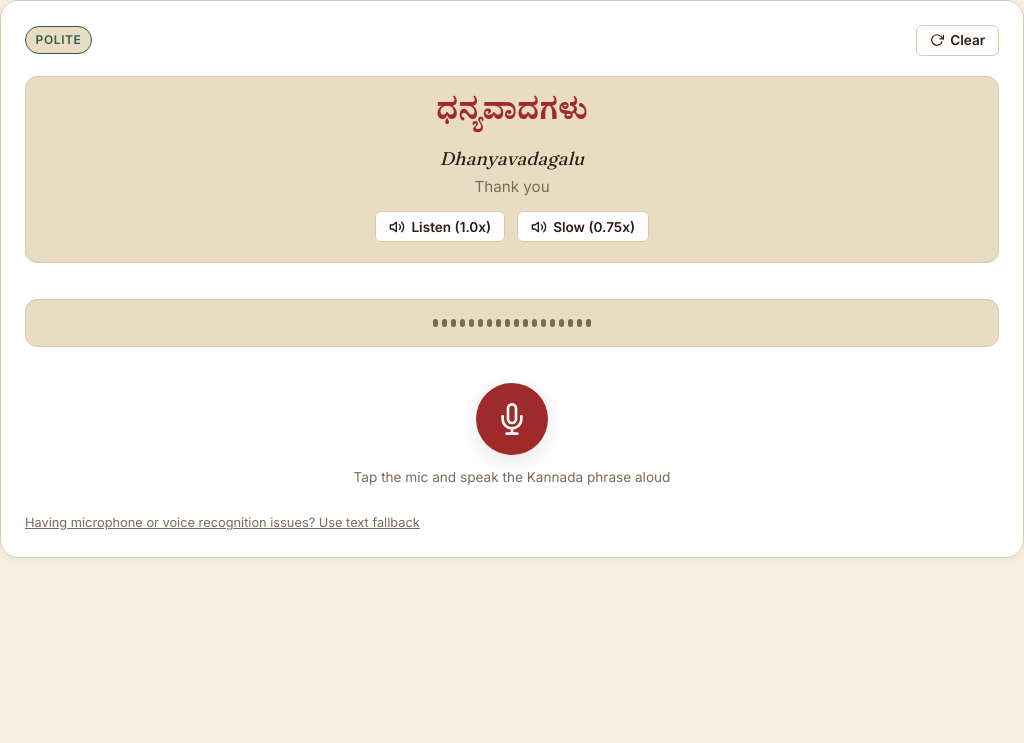
Test: SpeakPractice Component › allows text fallback input evaluation
// Click toggle fallback
Click the button "Having microphone or voice recognition issues" at (222, 523), box [25, 515, 420, 530]
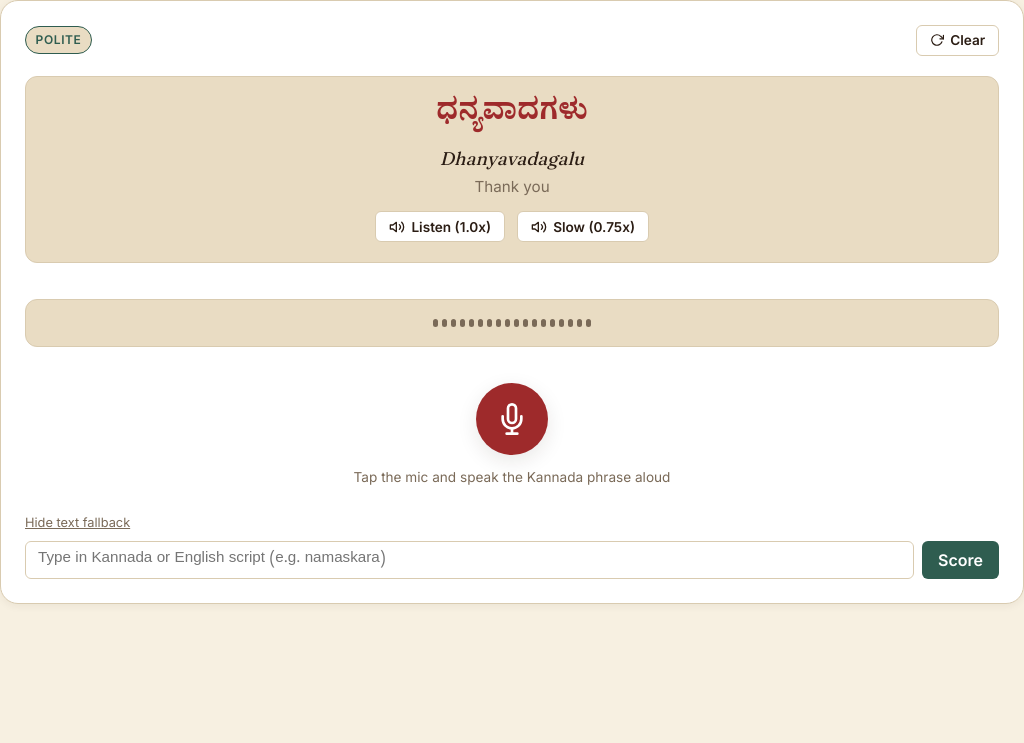
Type "dhanyavadagalu" into the field named "Text pronunciation input" at (470, 560), box [25, 541, 914, 579]
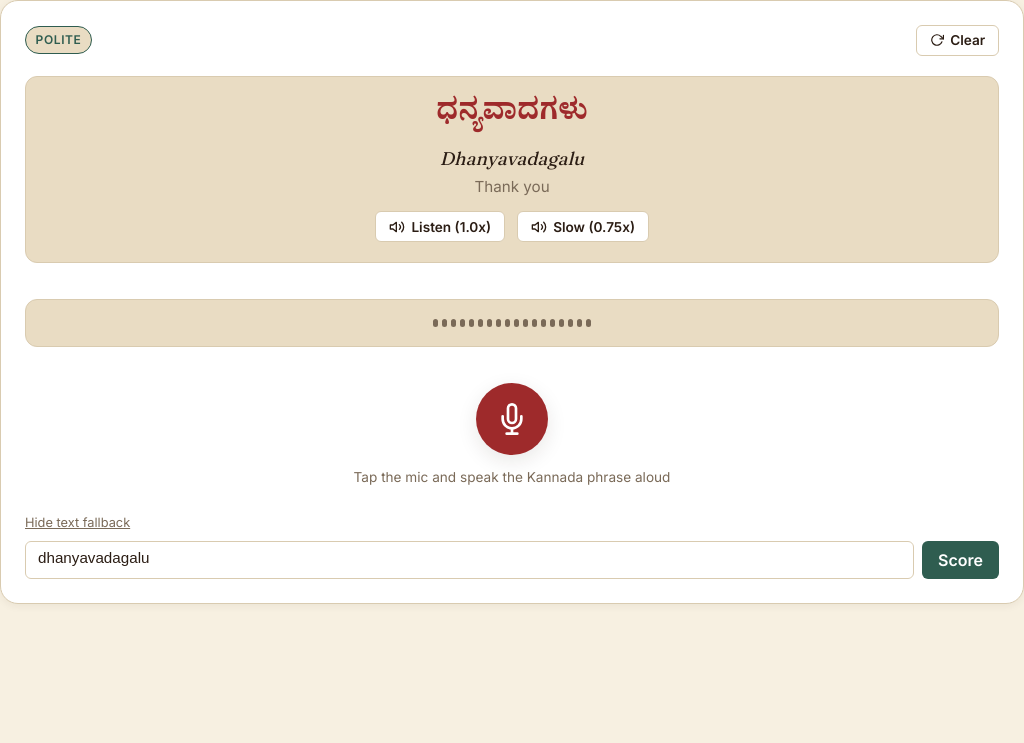
Click the button "Score" at (961, 560), box [922, 541, 999, 579]
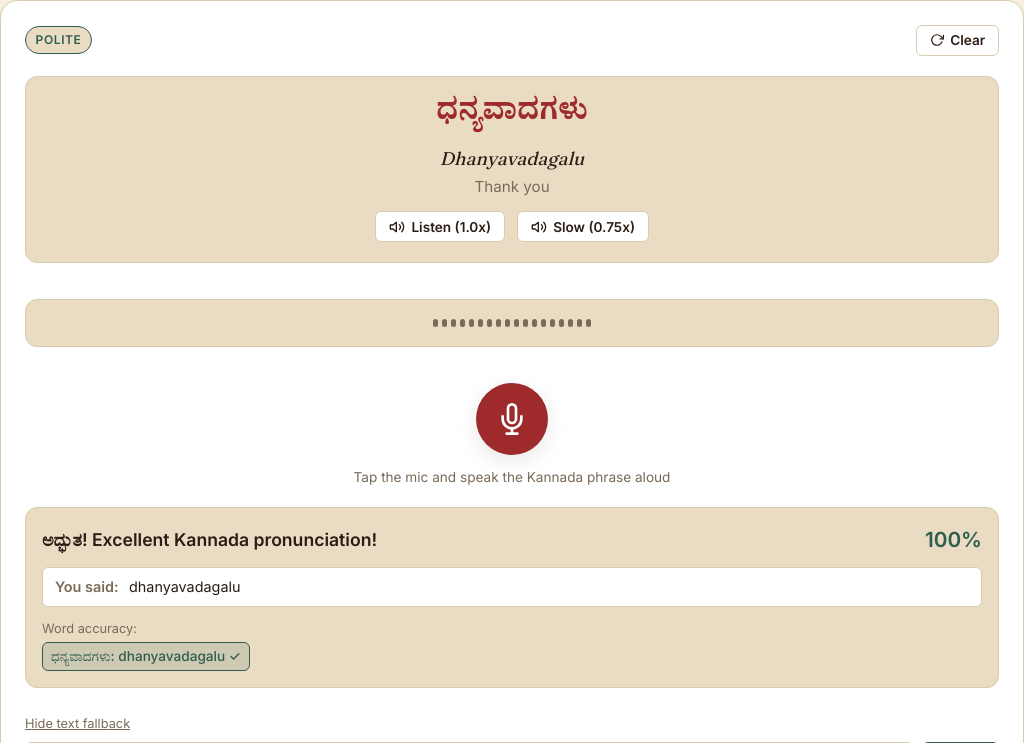
Now the text "You said:" is shown, box [55, 578, 119, 596]
Now the text "You said: dhanyavadagalu" is shown, box [42, 568, 982, 607]
